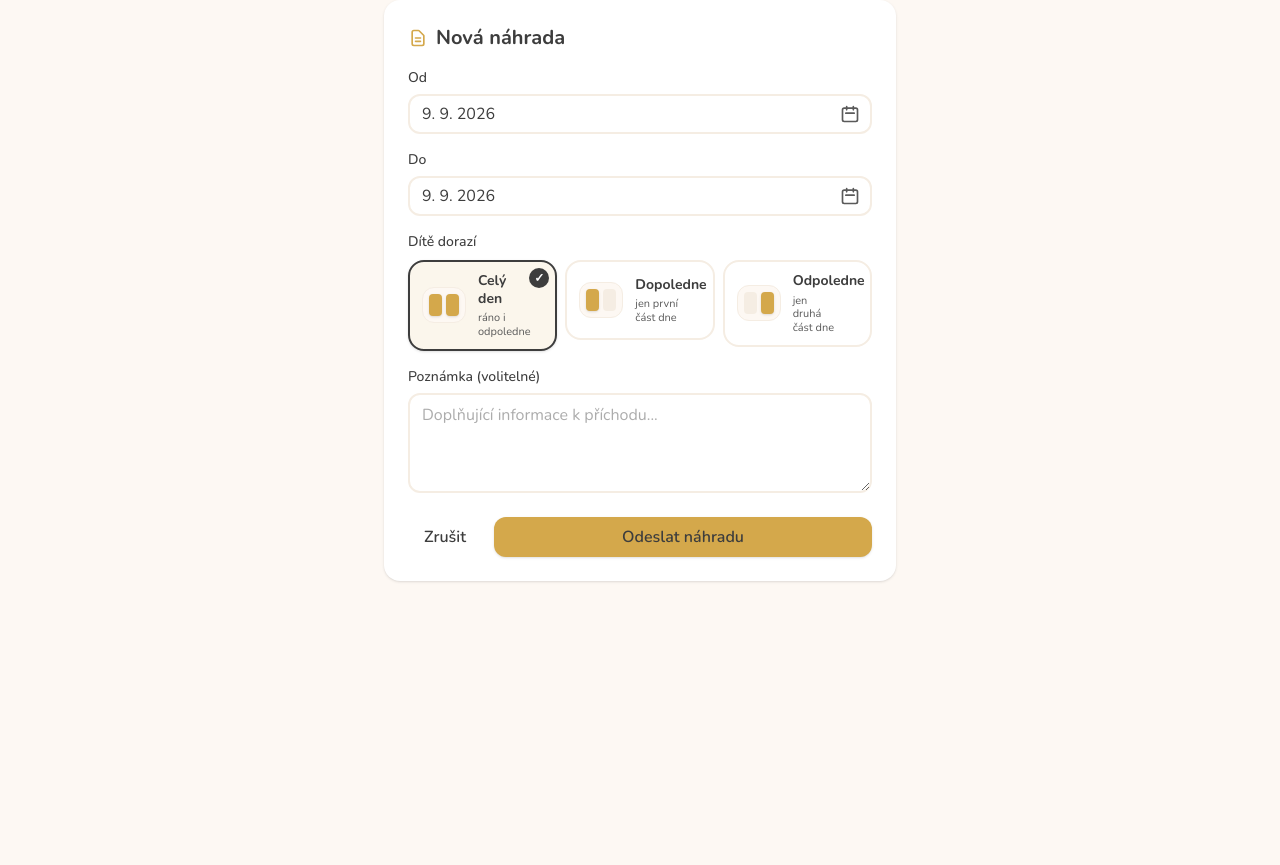
Scenario: NewExcusePage › filters date endpoints by the child's schedule (makeup=true)
expect the heading "Nová náhrada" is shown: met, box [408, 24, 565, 51]
Step 1. Click the dropdown labelled "Od" → (640, 114), box [408, 94, 872, 134]
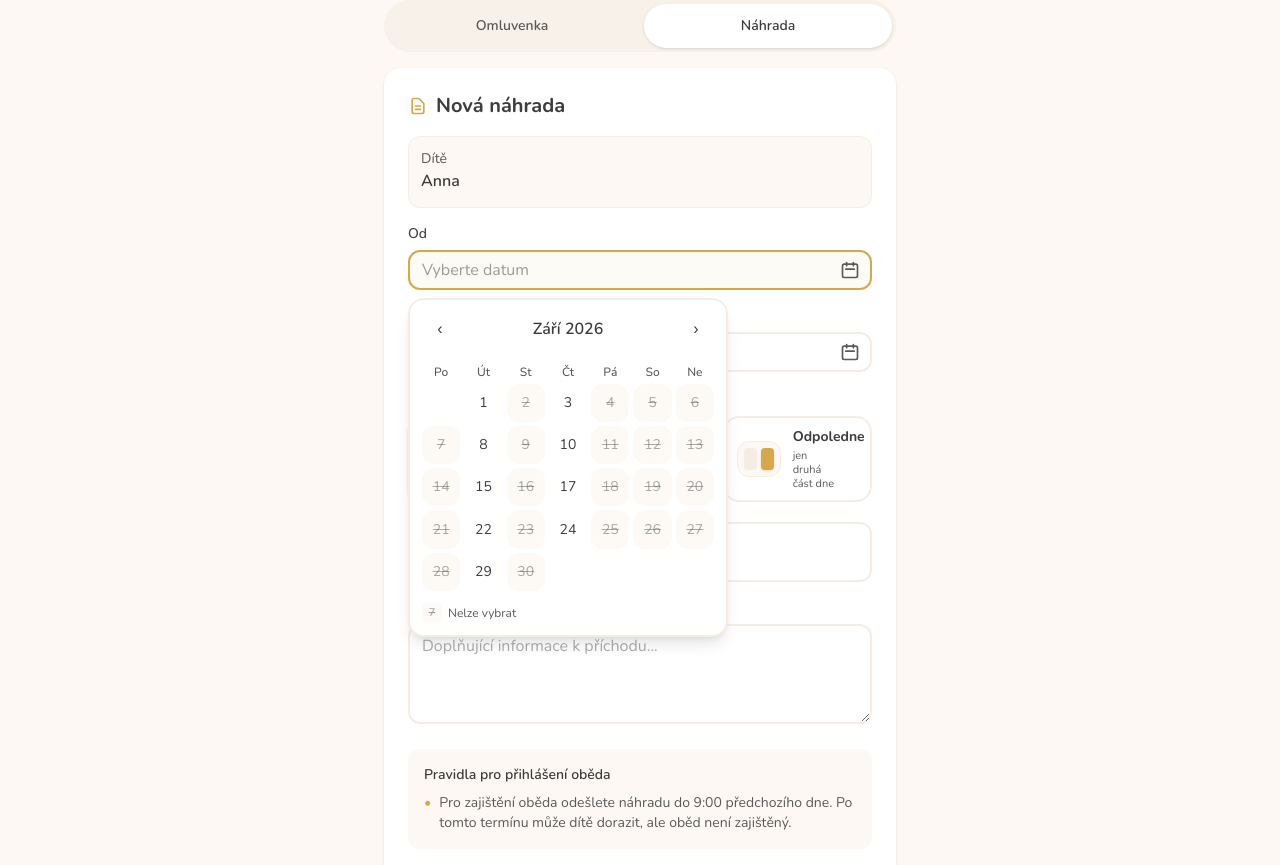
expect the button named "středa 9. září 2026" is disabled: met, box [507, 426, 545, 464]
expect the button named "čtvrtek 10. září 2026" is enabled: met
Step 2. Click the button named "čtvrtek 10. září 2026" → (568, 445), box [549, 426, 587, 464]
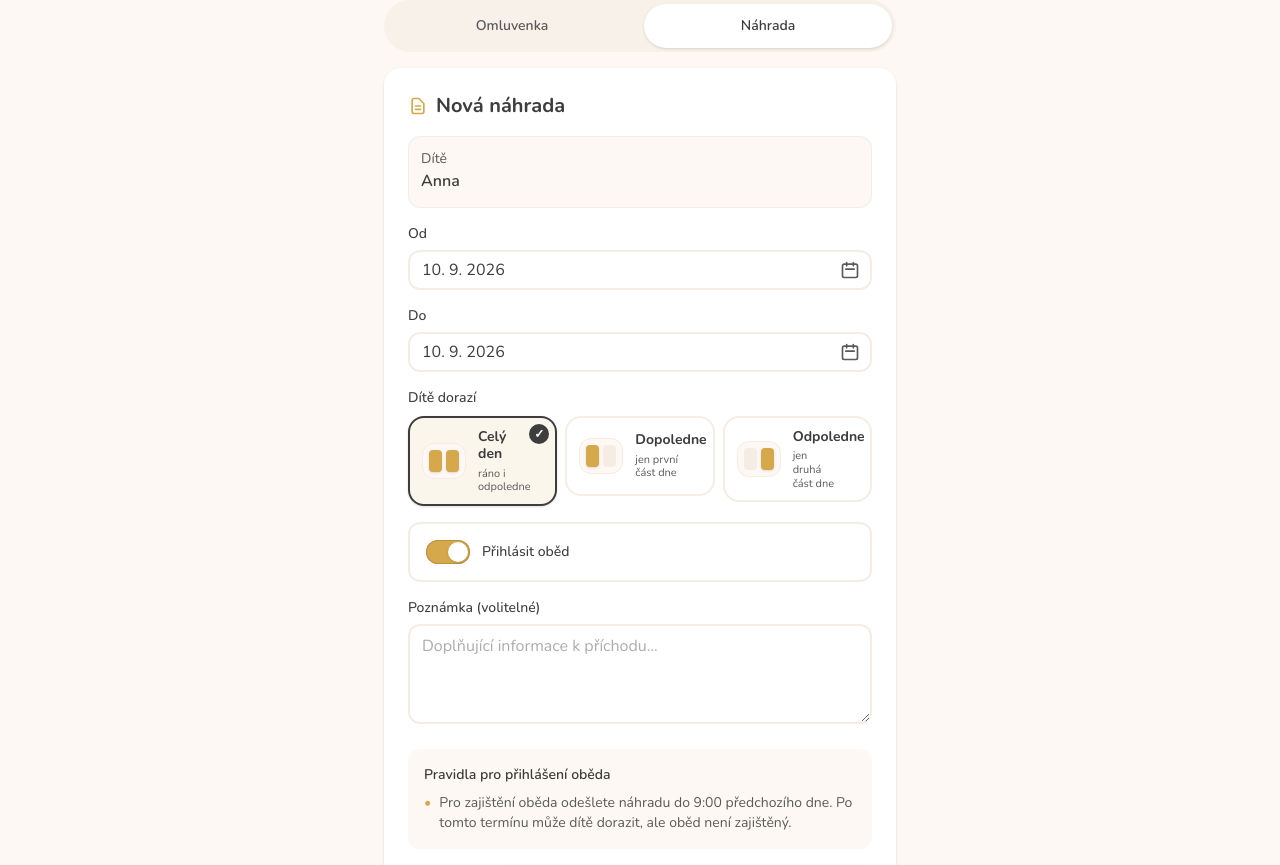
Step 3. Click the dropdown labelled "Do" → (640, 352), box [408, 332, 872, 372]
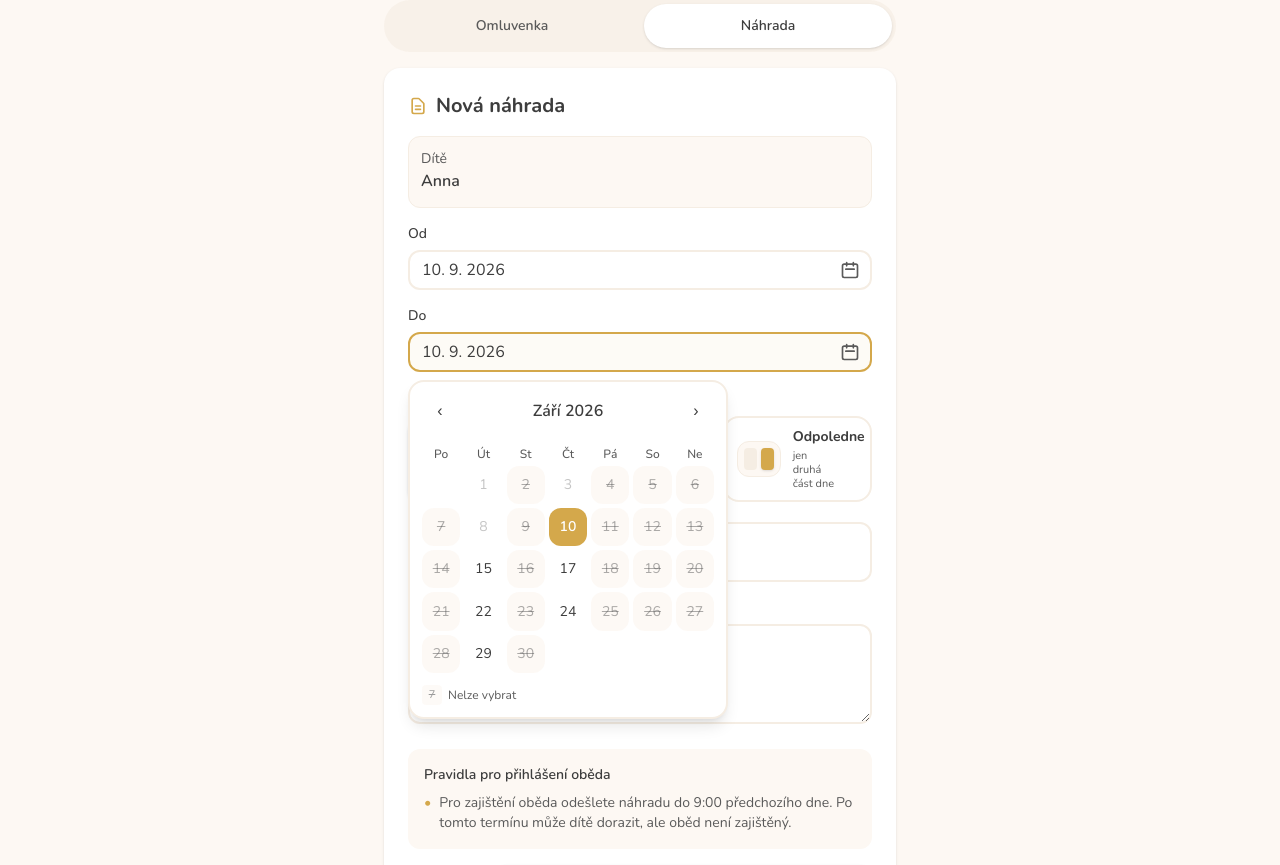
expect the button named "čtvrtek 10. září 2026" is enabled: met, box [549, 508, 587, 546]
